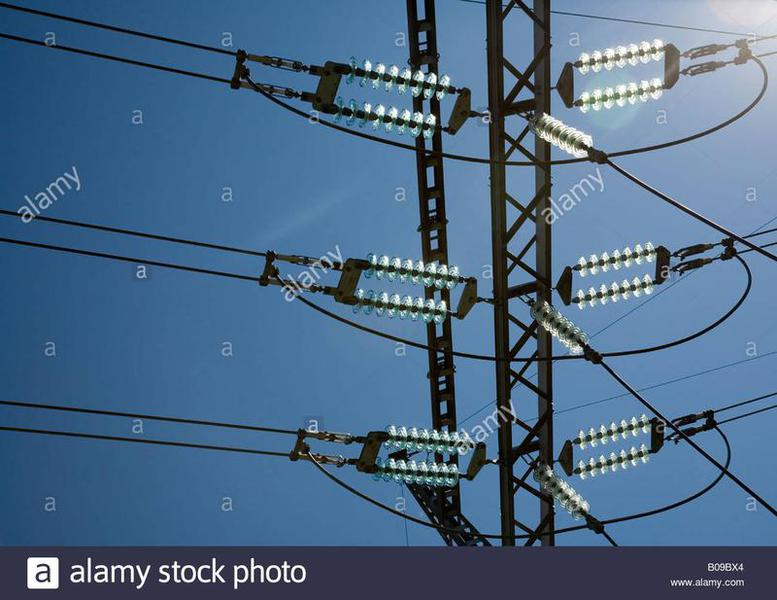isolator: (330, 55, 451, 139), (351, 252, 460, 324), (575, 37, 663, 112), (371, 425, 470, 486), (575, 241, 656, 310), (574, 414, 651, 479), (533, 463, 590, 521), (530, 299, 589, 355), (527, 111, 593, 159)
